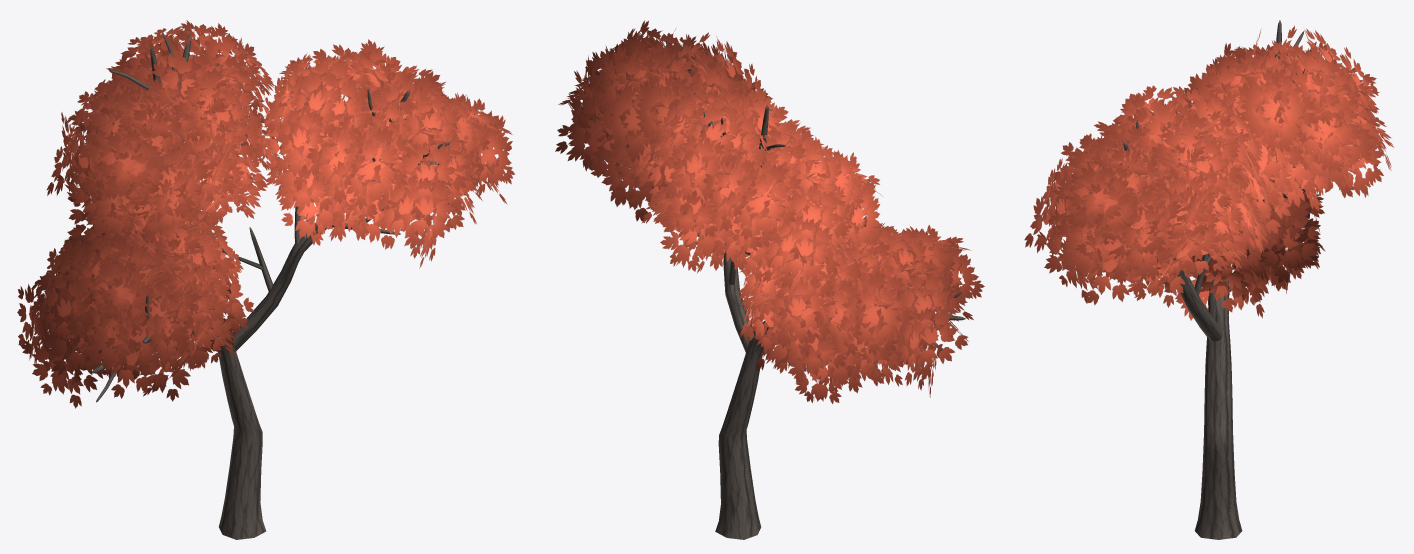
Rendered from MapleTree_5.gltf.
3 renders of one model, left to right at view 1: azimuth 30°, elevation 25°; view 2: azimuth 150°, elevation 25°; view 3: azimuth 270°, elevation 25°, orthographic. The views are drawn at different scales.
Parts seen in each view (by area): view 1: MapleTree_5; view 2: MapleTree_5; view 3: MapleTree_5.
Boxes of the visible parts, left/top/right/bottom form: MapleTree_5: left=17, top=20, right=514, bottom=539; MapleTree_5: left=555, top=20, right=984, bottom=539; MapleTree_5: left=1024, top=20, right=1394, bottom=539.
Size of the model in its own units: 7.01 by 7.28 by 5.08.
2 materials, 2 textured.
